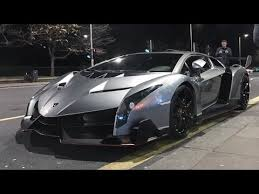Lamborghini: (44, 57, 250, 138)
